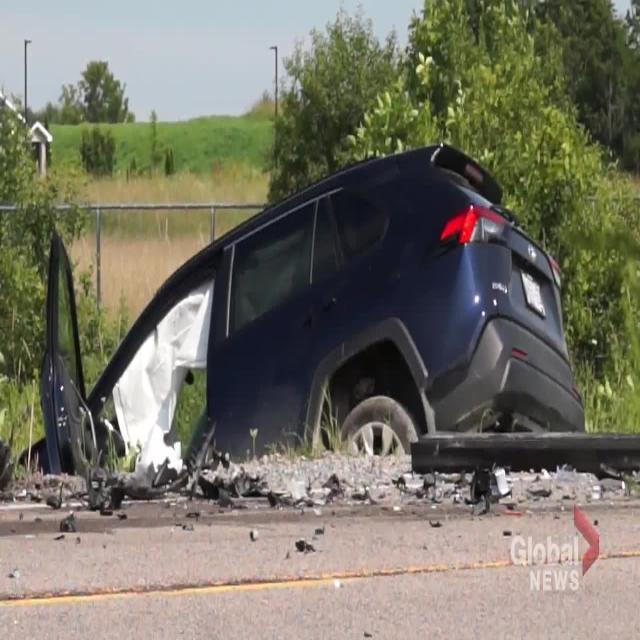Accident: (17, 140, 588, 516)
